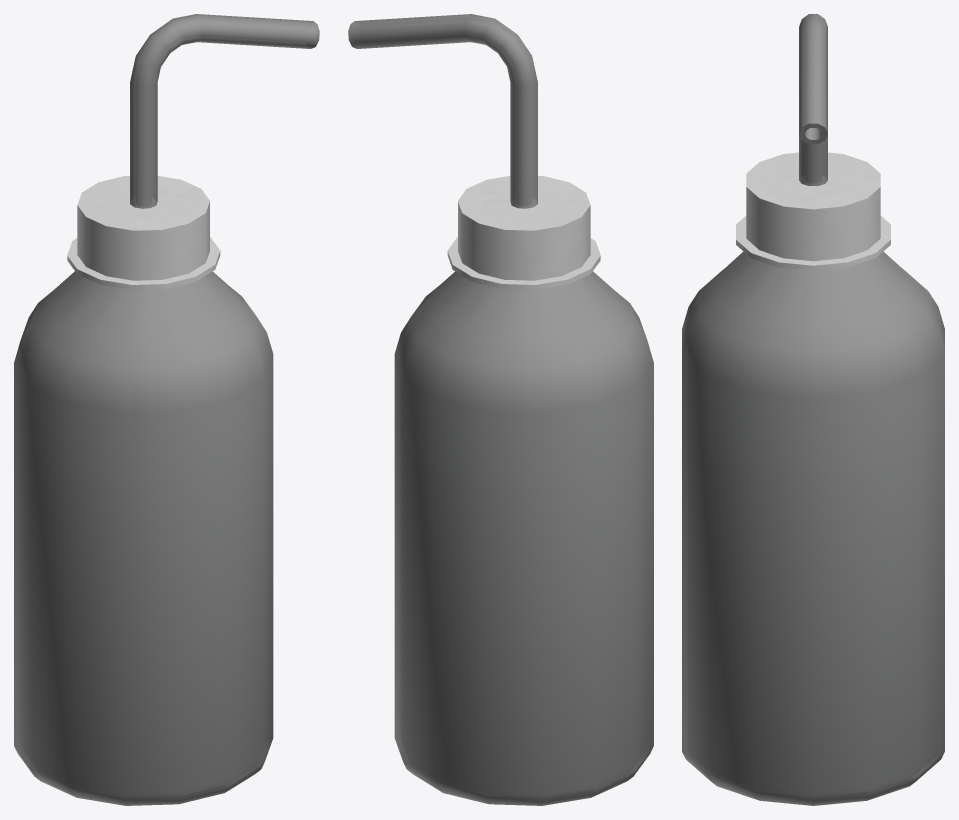
Rendered from SM_实验室洗瓶.FBX.
3 renders of one model, left to right at view 1: azimuth 30°, elevation 25°; view 2: azimuth 150°, elevation 25°; view 3: azimuth 270°, elevation 25°, orthographic. The views are drawn at different scales.
Visible parts, largest first — view 1: SM_实验室洗瓶; view 2: SM_实验室洗瓶; view 3: SM_实验室洗瓶.
Part boxes in pixels (x1,y1,x2,y2): SM_实验室洗瓶: (14,14,319,805); SM_实验室洗瓶: (348,14,653,805); SM_实验室洗瓶: (682,14,944,805).
Bounding box in the file's own units: 0.0596 × 0.1465 × 0.046.
